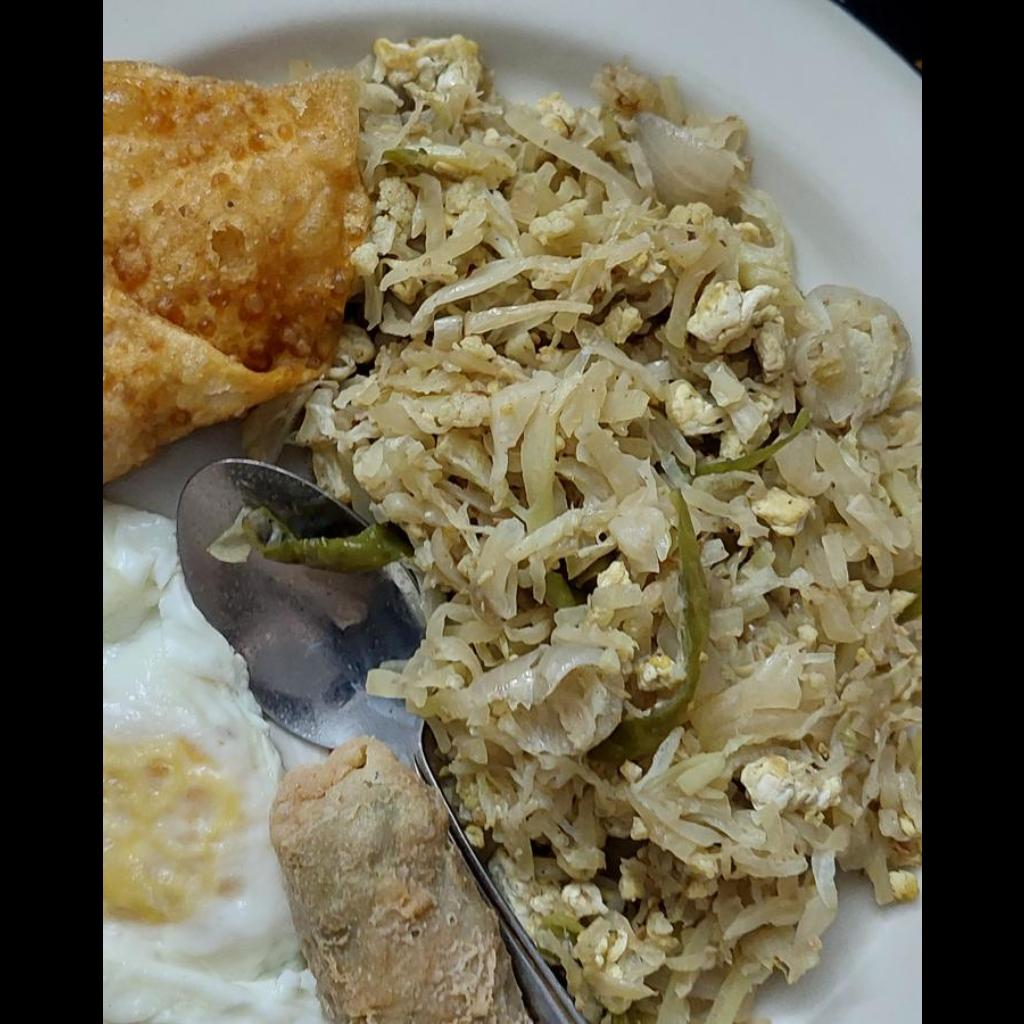egg-poached: (102, 506, 328, 1023)
puri: (102, 59, 369, 484)
roll: (269, 737, 530, 1023)
vaji: (307, 34, 920, 1012)
